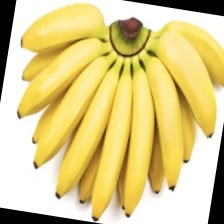banana: (15, 30, 177, 193)
